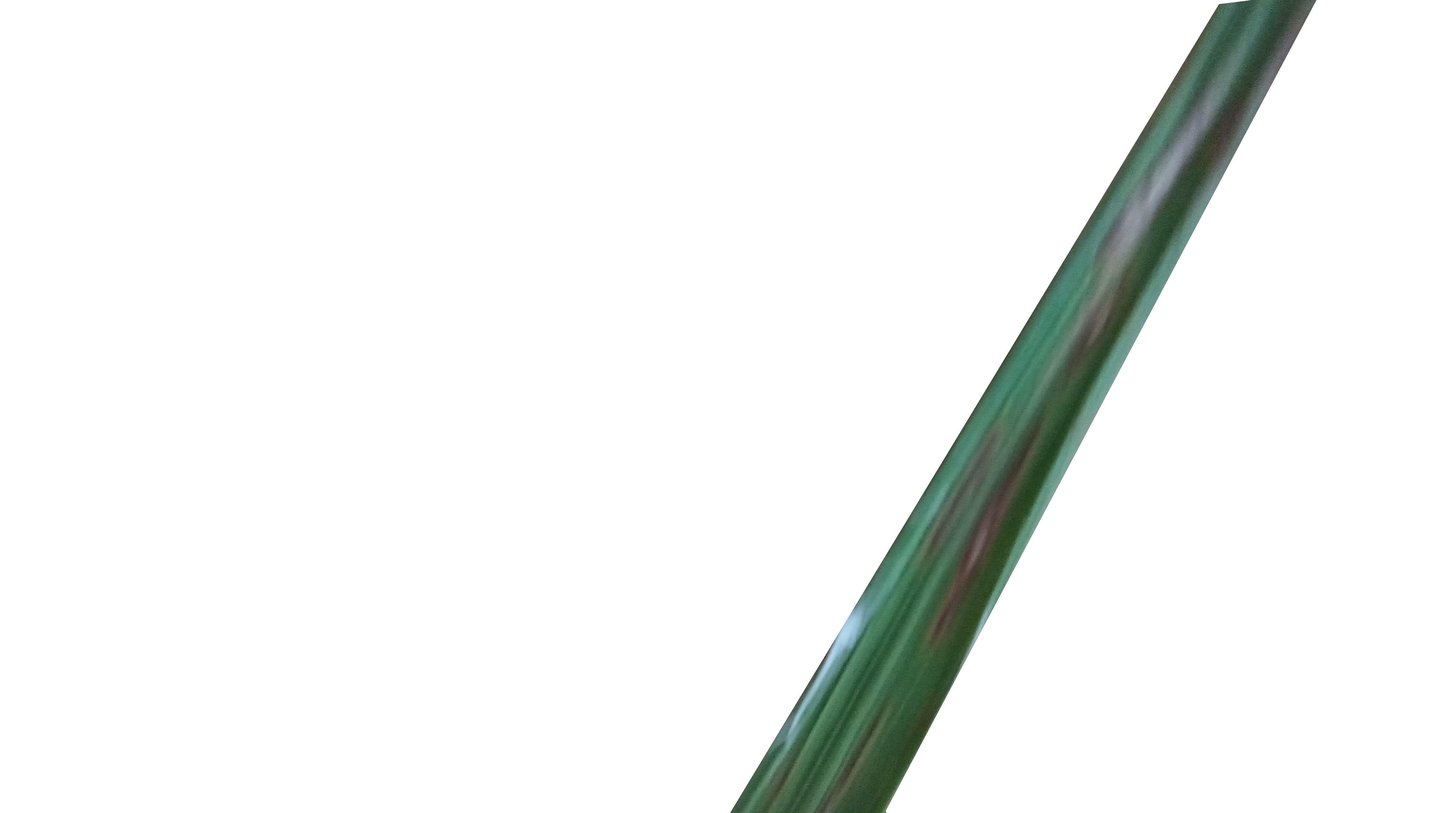Blight: (914, 386, 1083, 684)
